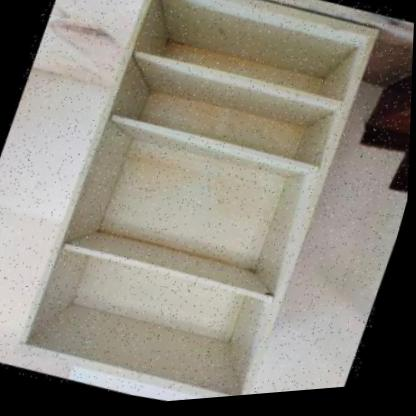Shelf: (3, 0, 393, 415)
